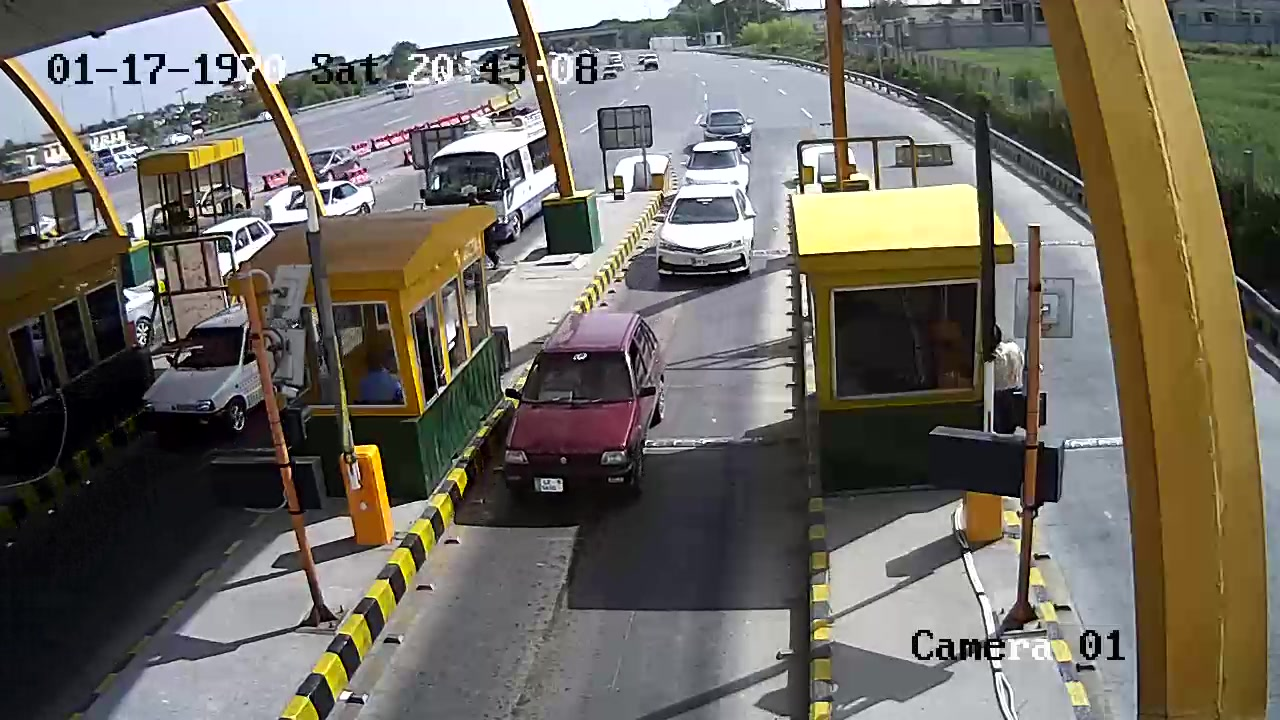F1: (501, 305, 677, 537)
